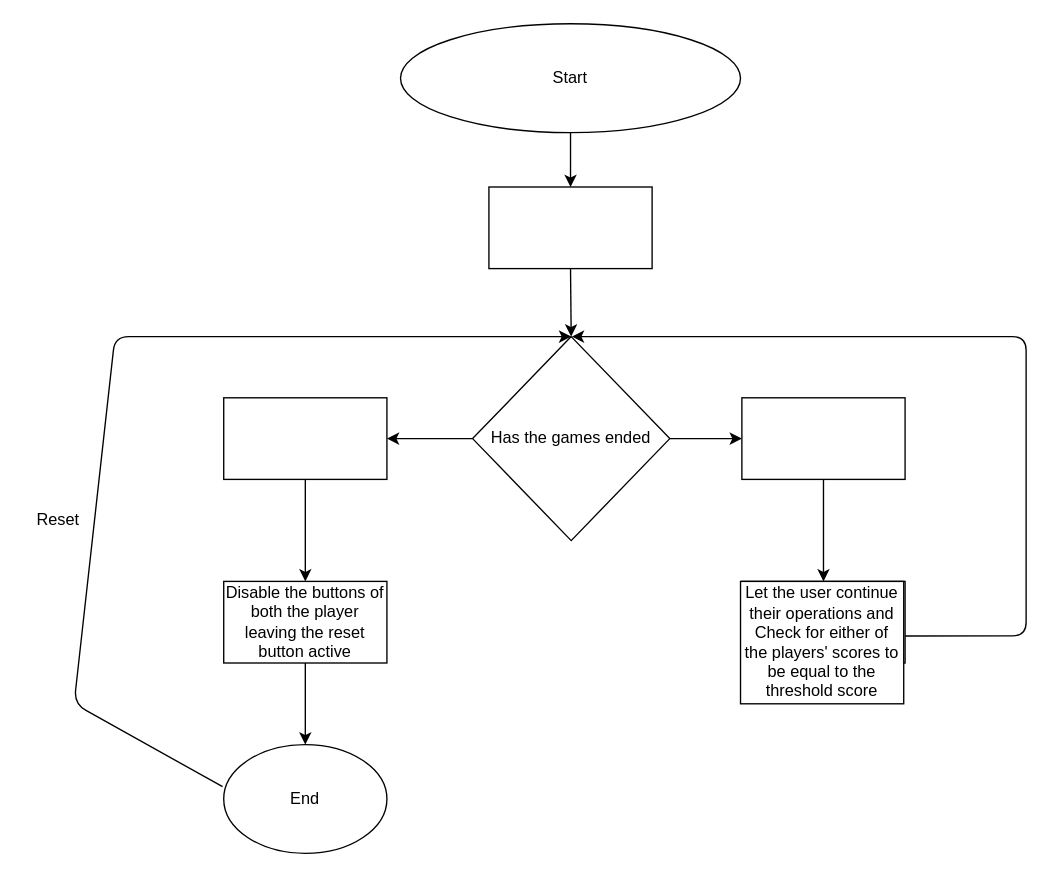
Some shapes in this 1061 by 877 pixel diagram are drawn without their labels. Each missing label, with the centre of its shape:
Get the required values from main html file: the point at 570,227
No: the point at 823,437
Yes: the point at 304,437
